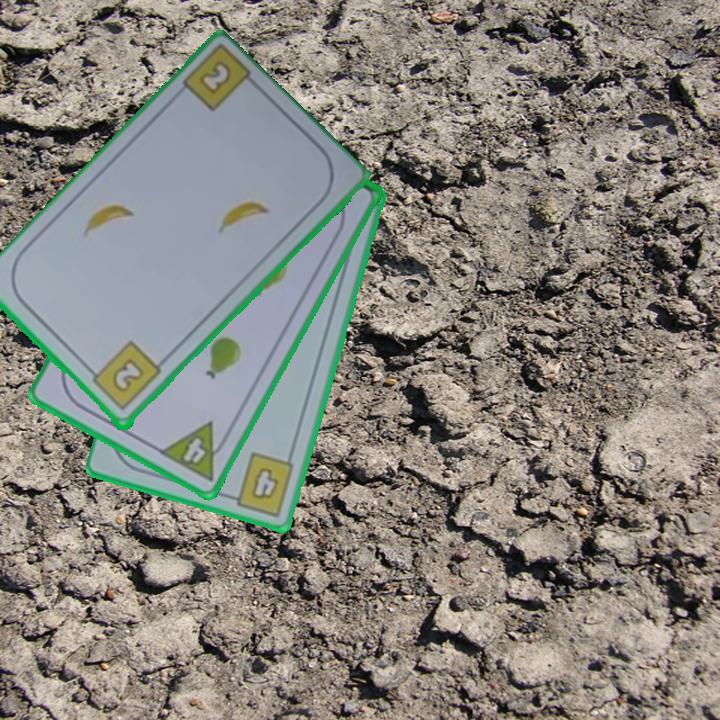2b: (84, 338, 164, 414), (195, 57, 235, 98)
4b: (223, 448, 298, 520)
4p: (156, 418, 234, 485)
